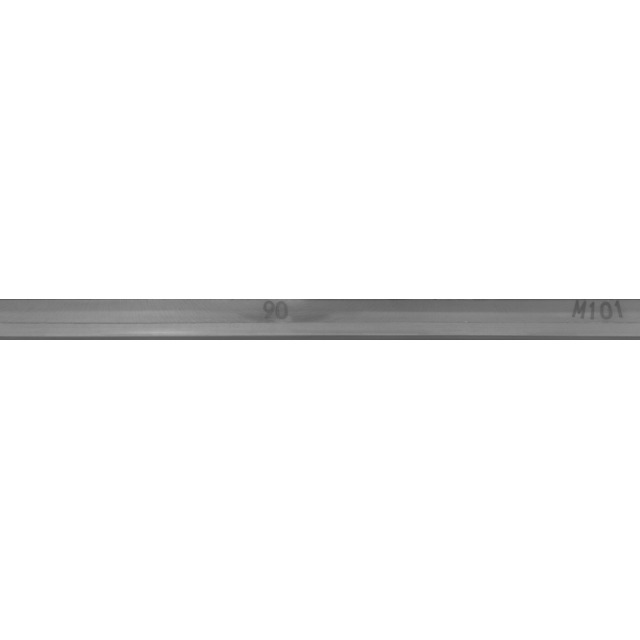mohao: (495, 270, 640, 370)
xuehao: (172, 270, 372, 370)
